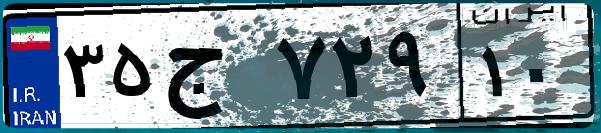0: (525, 38, 570, 115)
1: (475, 38, 525, 113)
2: (330, 28, 385, 110)
3: (57, 26, 110, 100)
5: (110, 28, 158, 98)
7: (270, 28, 330, 110)
9: (385, 28, 445, 110)
ج: (158, 20, 270, 120)
